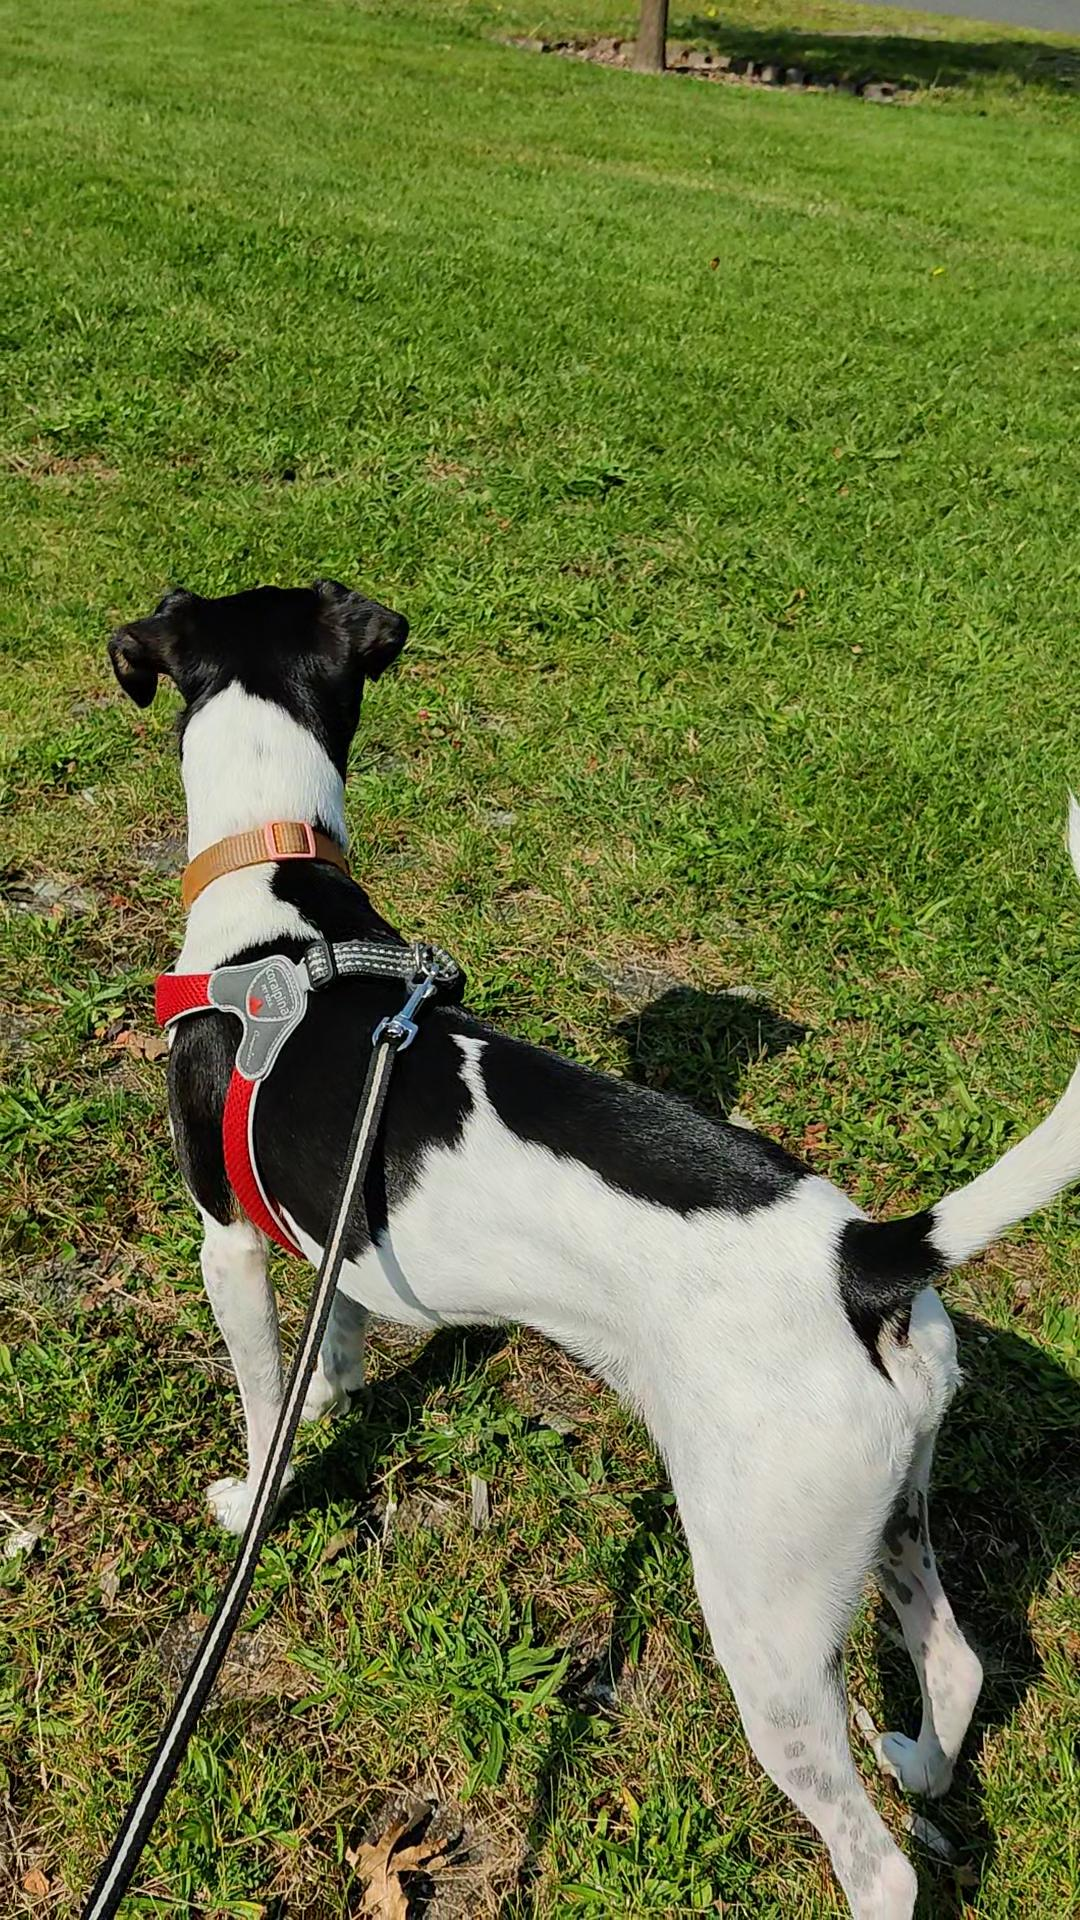Dog: (87, 568, 1079, 1919)
